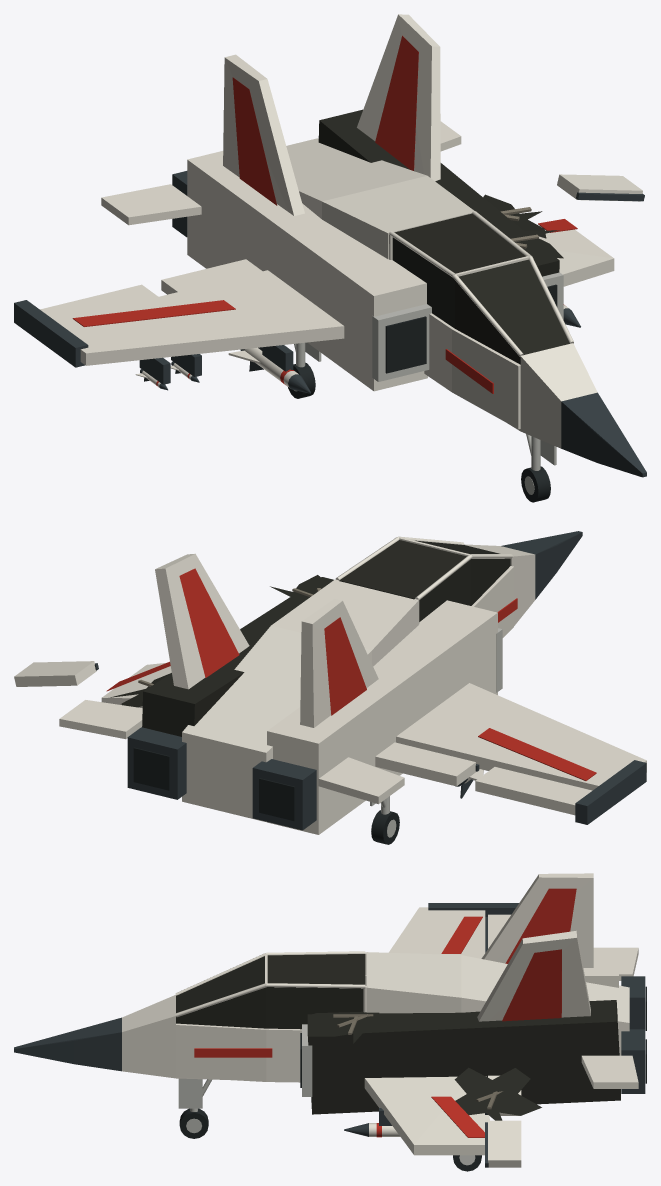
3 views of the same model, one above another, from view 1: azimuth 30°, elevation 25°; view 2: azimuth 150°, elevation 25°; view 3: azimuth 270°, elevation 25° (orthographic). The views are drawn at different scales.
Visible parts, largest first — view 1: jet-a-damaged-fleet-armor, jet-a-damaged-fleet-damage-charred, jet-a-damaged-fleet-red, jet-a-damaged-fleet-machine, elevator-left-fleet-armor, jet-a-damaged-fleet-edge, jet-a-damaged-fleet-rubber, aileron-right-painted, aileron-left-painted, flap-left-painted, store-left-large-painted, gear-wheel-nose-0-0-painted; view 2: jet-a-damaged-fleet-armor, jet-a-damaged-fleet-damage-charred, jet-a-damaged-fleet-machine, jet-a-damaged-fleet-red, aileron-left-painted, flap-left-painted, jet-a-damaged-fleet-rubber, elevator-left-fleet-armor, elevator-right-fleet-armor, aileron-right-painted, gear-wheel-left-0-0-painted; view 3: jet-a-damaged-fleet-armor, jet-a-damaged-fleet-damage-charred, jet-a-damaged-fleet-red, jet-a-damaged-fleet-machine, aileron-right-painted, elevator-right-fleet-armor, landing-gear-nose-painted, elevator-left-fleet-armor, gear-wheel-nose-0-0-painted, jet-a-damaged-fleet-edge, store-right-large-painted, aileron-left-painted (+1 smaller).
Boxes of the visible parts, x1,y1,x2,y2 form: jet-a-damaged-fleet-armor: (57, 14, 614, 448); jet-a-damaged-fleet-damage-charred: (318, 109, 569, 364); jet-a-damaged-fleet-red: (72, 35, 577, 393); jet-a-damaged-fleet-machine: (14, 171, 646, 477); elevator-left-fleet-armor: (101, 184, 201, 225); jet-a-damaged-fleet-edge: (372, 272, 563, 381); jet-a-damaged-fleet-rubber: (385, 284, 557, 373); aileron-right-painted: (557, 174, 644, 201); aileron-left-painted: (40, 284, 158, 321); flap-left-painted: (161, 259, 262, 294); store-left-large-painted: (228, 347, 310, 393); gear-wheel-nose-0-0-painted: (521, 466, 550, 502); jet-a-damaged-fleet-armor: (101, 536, 646, 834); jet-a-damaged-fleet-damage-charred: (110, 540, 510, 736); jet-a-damaged-fleet-machine: (127, 531, 646, 830); jet-a-damaged-fleet-red: (106, 568, 596, 780); aileron-left-painted: (475, 767, 592, 815); flap-left-painted: (375, 742, 479, 786); jet-a-damaged-fleet-rubber: (133, 747, 295, 821); elevator-left-fleet-armor: (318, 757, 404, 804); elevator-right-fleet-armor: (59, 700, 142, 739); aileron-right-painted: (14, 661, 98, 686); gear-wheel-left-0-0-painted: (371, 810, 399, 844); jet-a-damaged-fleet-armor: (122, 873, 629, 1155); jet-a-damaged-fleet-damage-charred: (176, 954, 620, 1120); jet-a-damaged-fleet-red: (194, 888, 576, 1137); jet-a-damaged-fleet-machine: (14, 903, 645, 1125); aileron-right-painted: (485, 1120, 521, 1167); elevator-right-fleet-armor: (581, 1055, 638, 1088); landing-gear-nose-painted: (178, 1078, 211, 1111); elevator-left-fleet-armor: (593, 947, 638, 980); gear-wheel-nose-0-0-painted: (179, 1108, 208, 1138); jet-a-damaged-fleet-edge: (302, 1024, 312, 1096); store-right-large-painted: (344, 1123, 400, 1137); aileron-left-painted: (485, 914, 510, 952).
Bounding box in the file's own units: 67.21 × 31.25 × 73.68.
